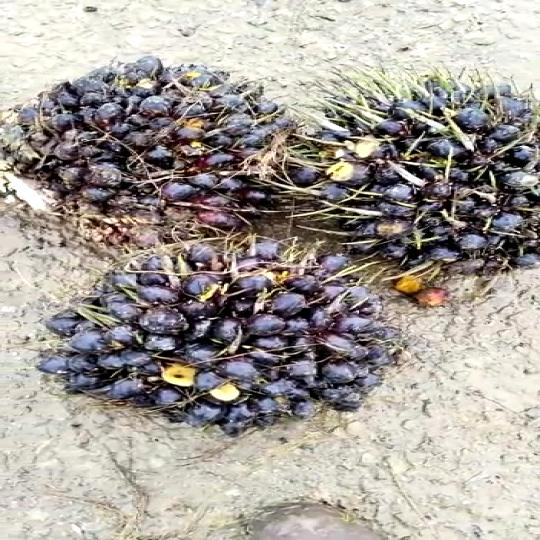mentah: (41, 238, 436, 446), (0, 46, 322, 246), (283, 71, 540, 273)
